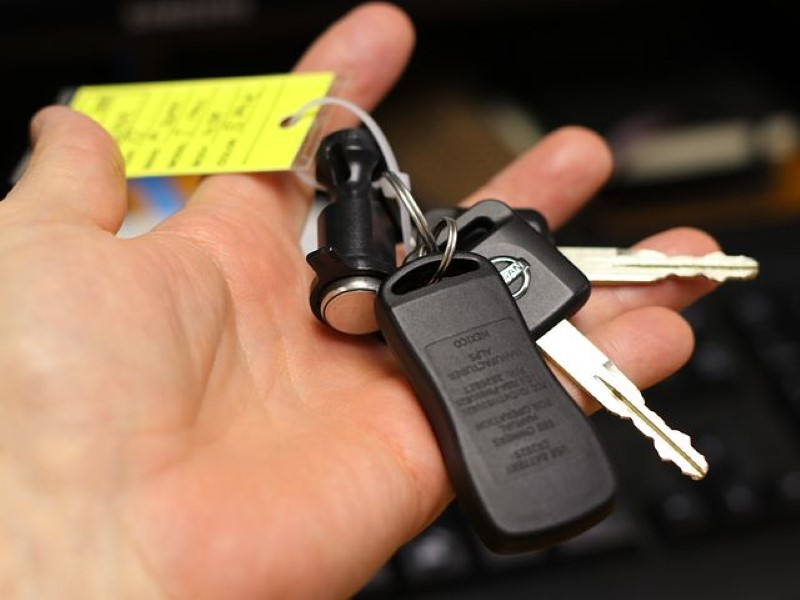carkey: (375, 238, 623, 557)
key: (465, 229, 765, 291)
